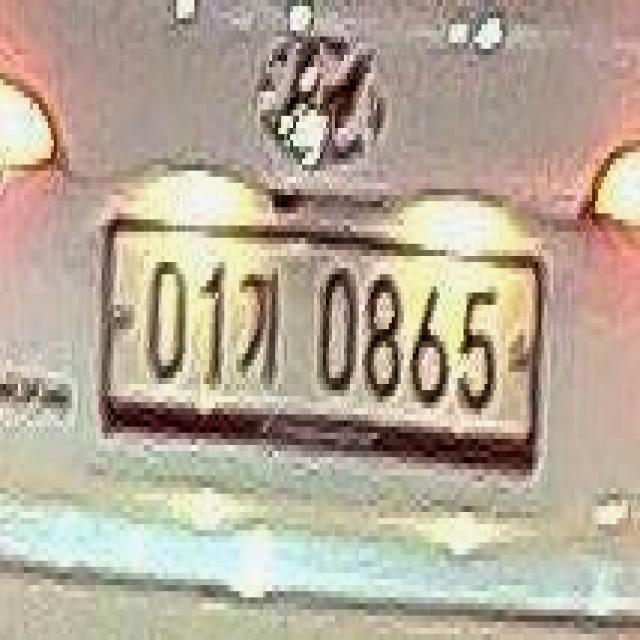illegal_plate: (102, 206, 544, 492)
